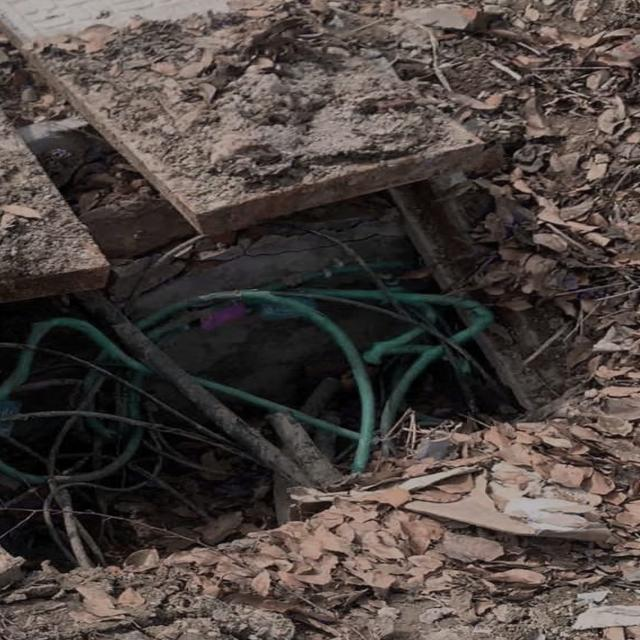uncovered: (0, 0, 628, 640)
